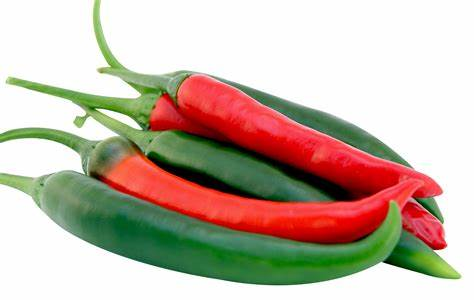Chili: (57, 31, 464, 288), (33, 150, 423, 291)
